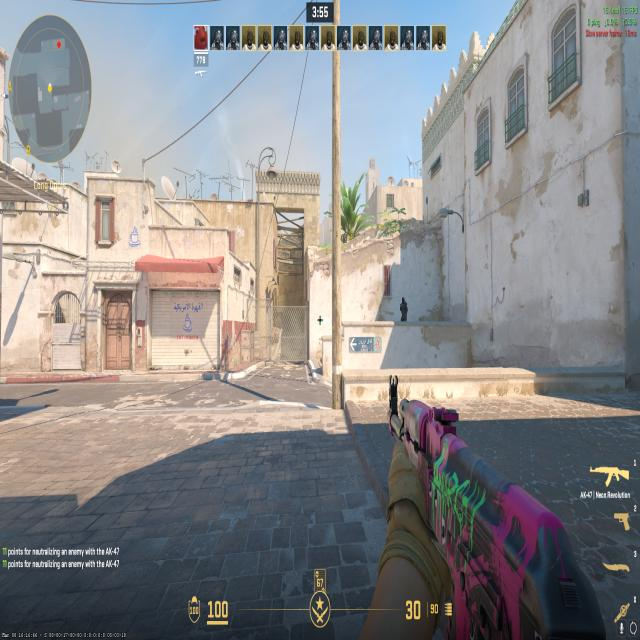ct: (400, 292, 408, 324)
